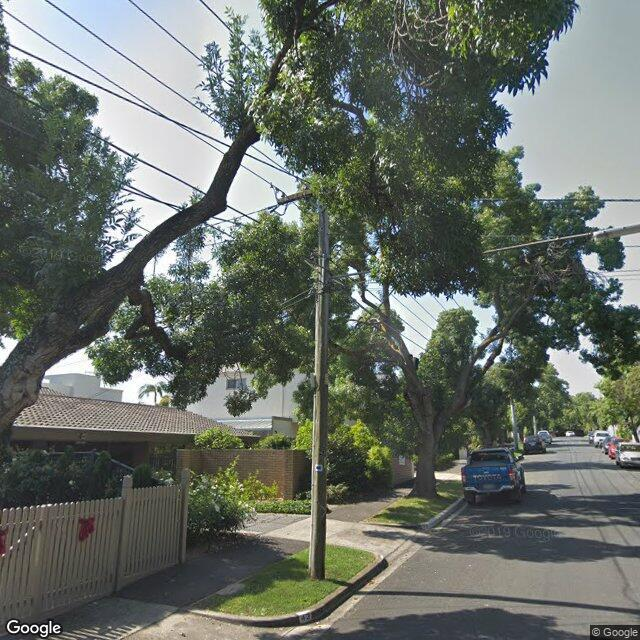crossarm: (277, 190, 313, 206)
streetlight: (324, 223, 640, 283)
timber-pole: (309, 195, 328, 579)
